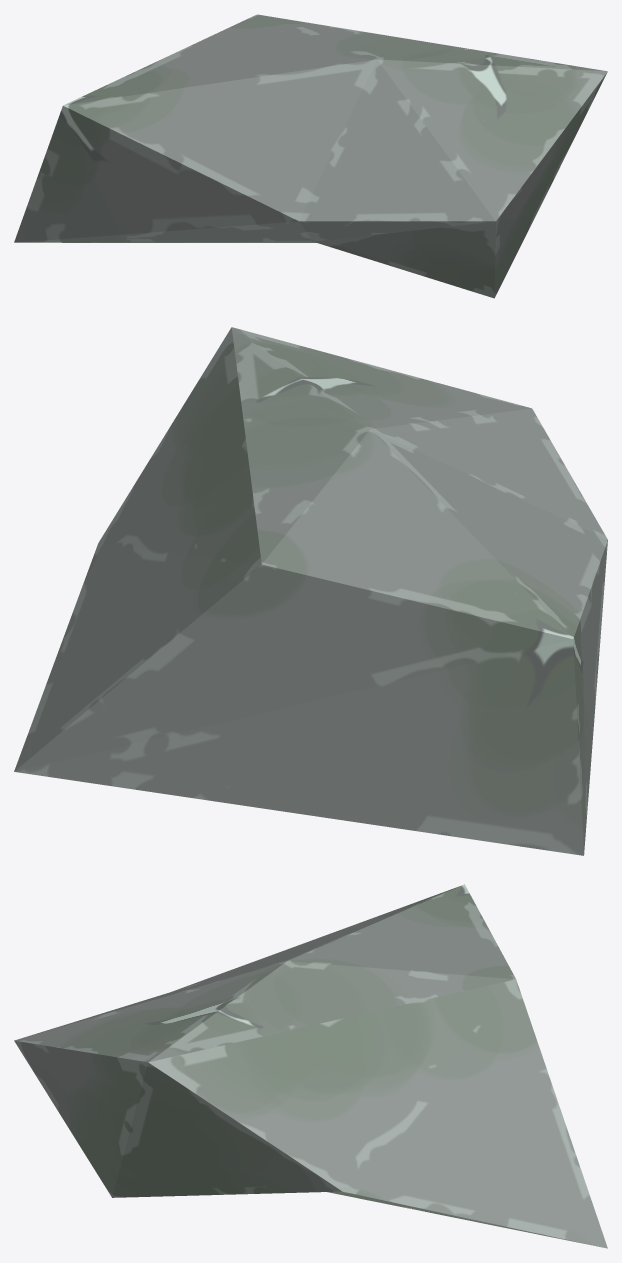
File: Cailloux 2.fbx
3 renders of one model, top to bottom at view 1: azimuth 30°, elevation 25°; view 2: azimuth 150°, elevation 25°; view 3: azimuth 270°, elevation 25°, orthographic. The views are drawn at different scales.
Parts seen in each view (by area): view 1: GeoSphere002; view 2: GeoSphere002; view 3: GeoSphere002.
Part boxes in pixels (bbox=[...]): GeoSphere002: bbox=[14, 14, 607, 298]; GeoSphere002: bbox=[14, 327, 607, 855]; GeoSphere002: bbox=[14, 884, 607, 1248].
Bounding box in the file's own units: 1.13 × 1.15 × 0.4591.
